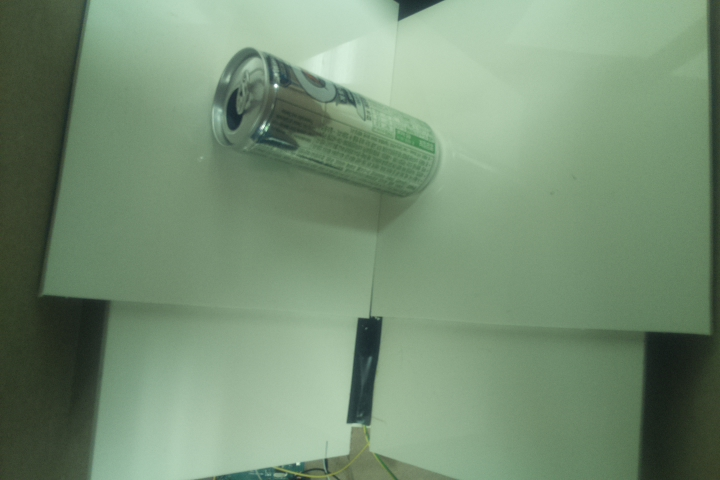can: (208, 46, 442, 202)
